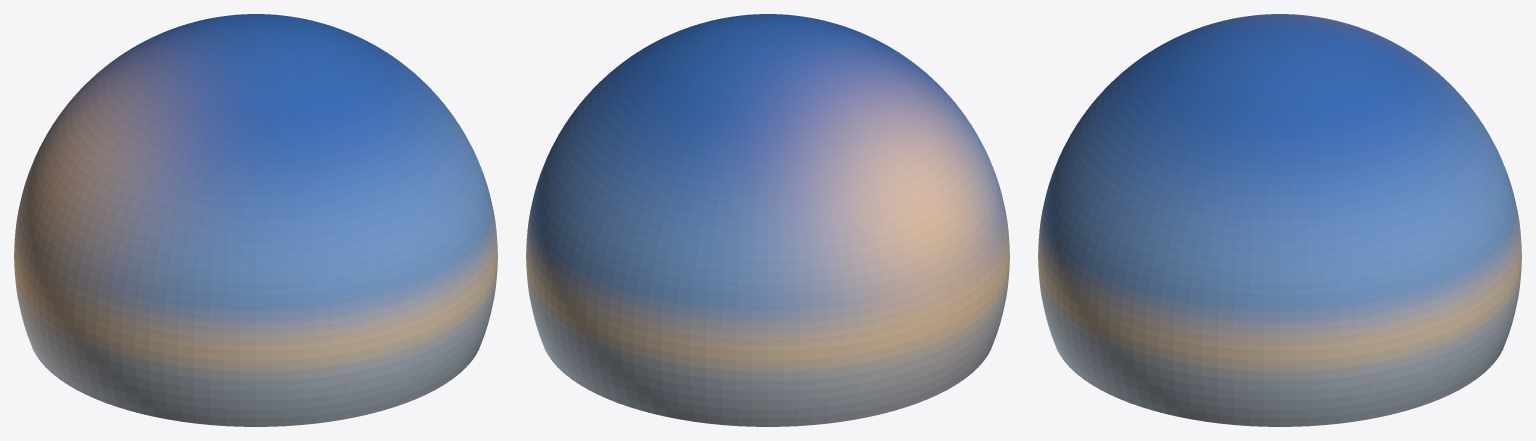
Rendered from diorama.glb.
The picture shows the model from 3 angles, left to right: view 1: azimuth 30°, elevation 25°; view 2: azimuth 150°, elevation 25°; view 3: azimuth 270°, elevation 25°; orthographic projection.
Visible parts, largest first — view 1: Sky; view 2: Sky; view 3: Sky.
Part boxes in pixels (x1=…): Sky: x1=14, y1=14, x2=497, y2=426; Sky: x1=526, y1=14, x2=1009, y2=426; Sky: x1=1038, y1=14, x2=1521, y2=426.
Size of the model in its own units: 3600 by 2416 by 3600.
Materials: 7 (7 with a texture image).
